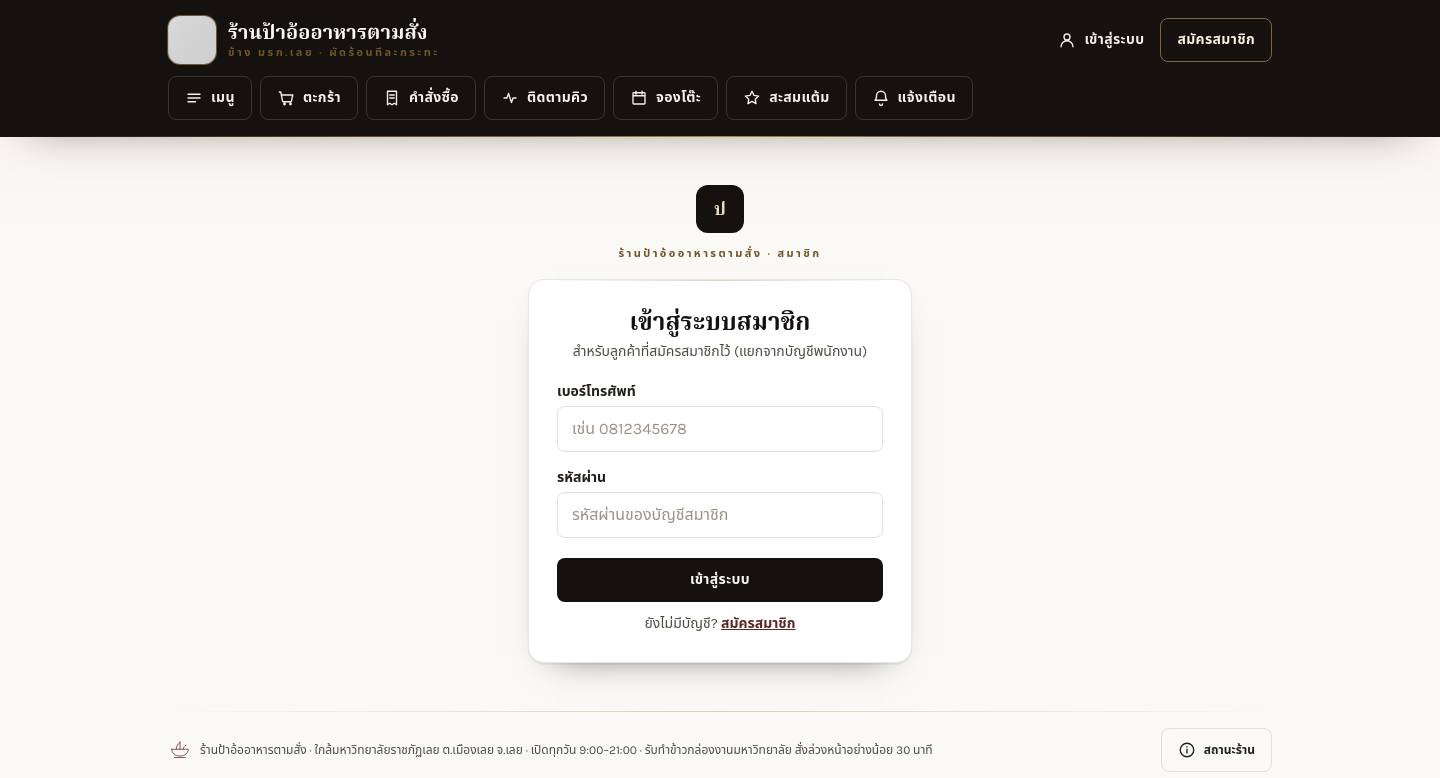
Test: แถบบัญชีสมาชิกในเชลล์ลูกค้า › เข้าสู่ระบบสำเร็จแล้วหัวเว็บเปลี่ยนเป็นชื่อสมาชิกทันที ไม่ต้องรีเฟรช
Expected: the navigation bar named "บัญชีสมาชิก" shows "เข้าสู่ระบบ", [1046,18,1156,62]
Type "0812345678" into the field labelled "เบอร์โทรศัพท์". click: (720, 429)
box: [557,406,883,452]
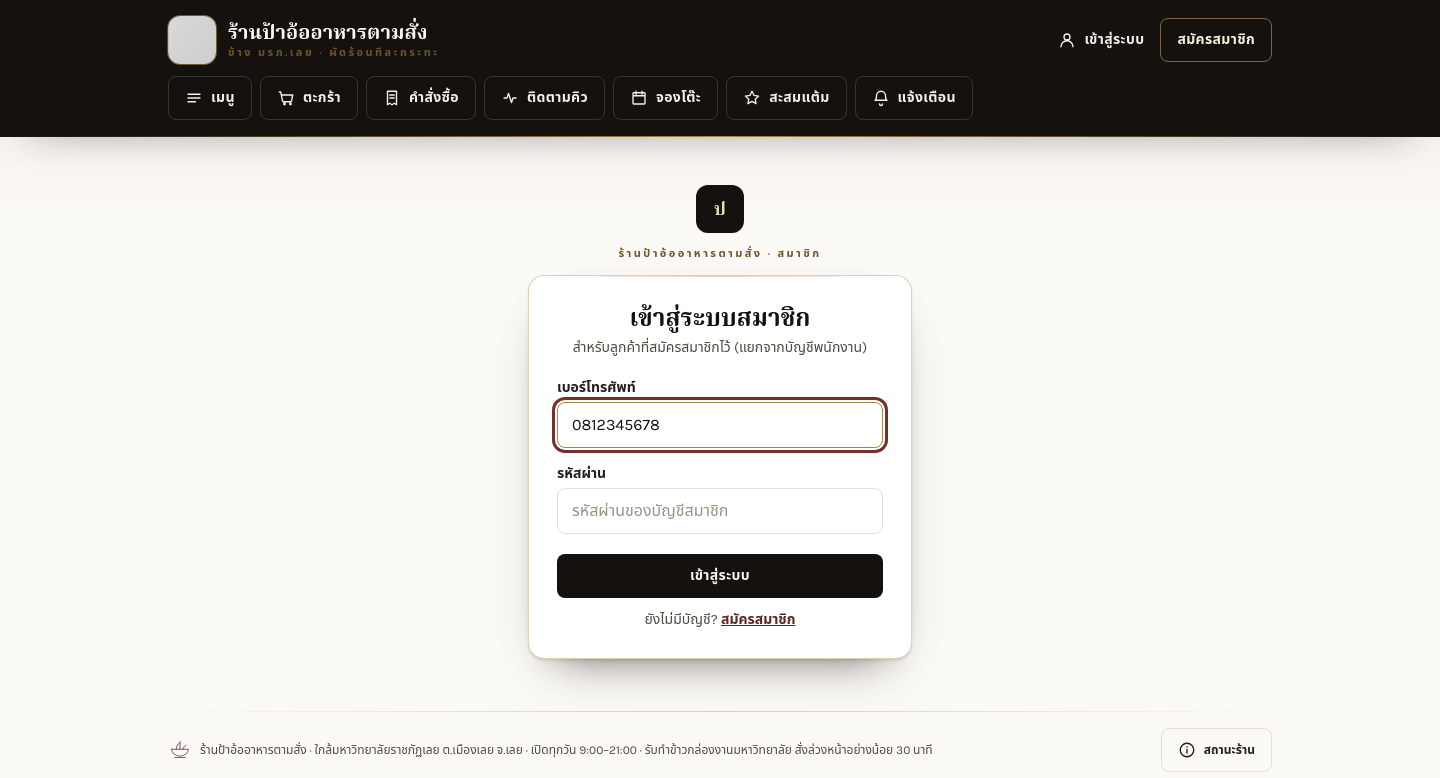
Type "Password11" into the password field labelled "รหัสผ่าน". click: (720, 511)
box: [557,488,883,534]
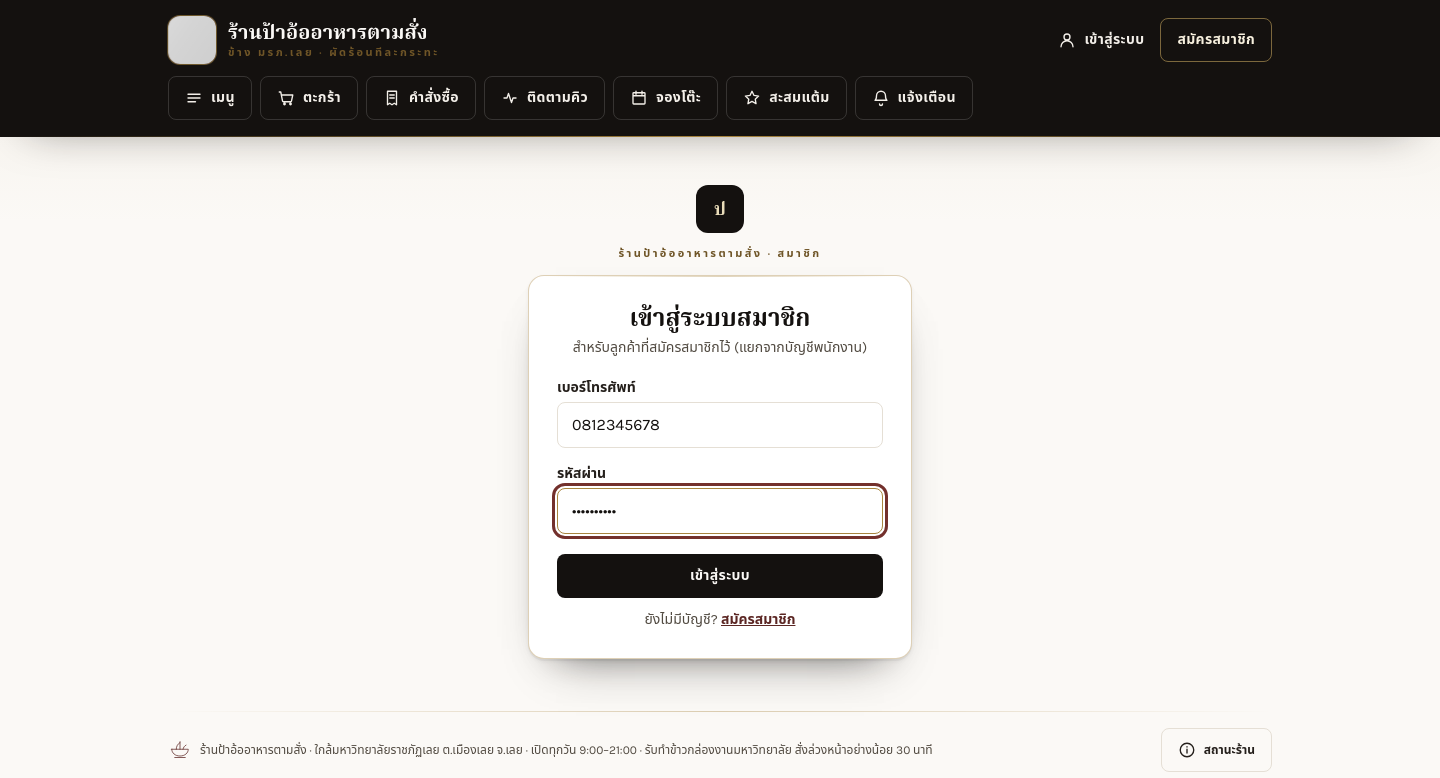
Click the button "เข้าสู่ระบบ". click: (720, 576)
box: [557,554,883,598]
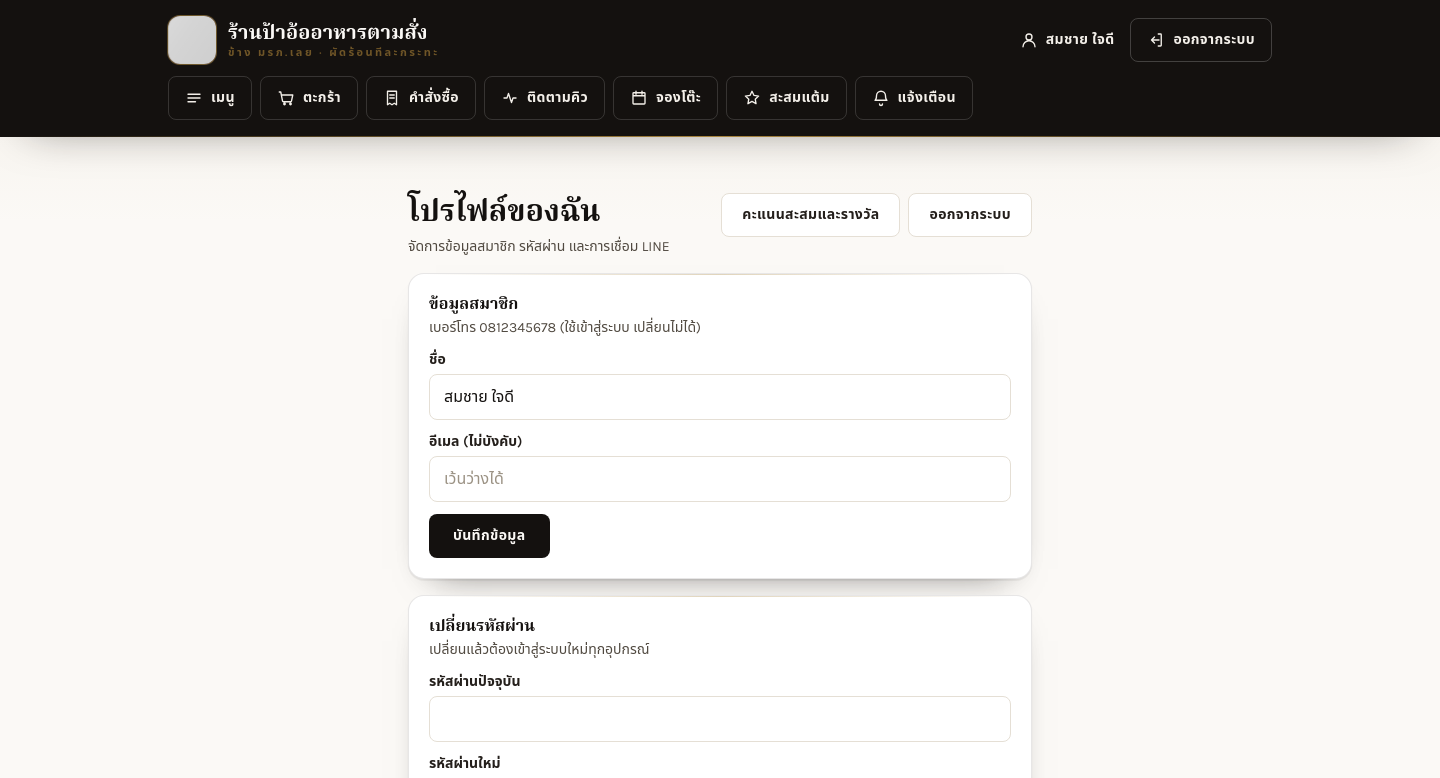
Expected: the navigation bar named "บัญชีสมาชิก" shows "สมชาย ใจดี", [1008,18,1126,62]
Expected: the navigation bar named "บัญชีสมาชิก" no longer shows "สมัครสมาชิก", [1008,18,1272,62]
